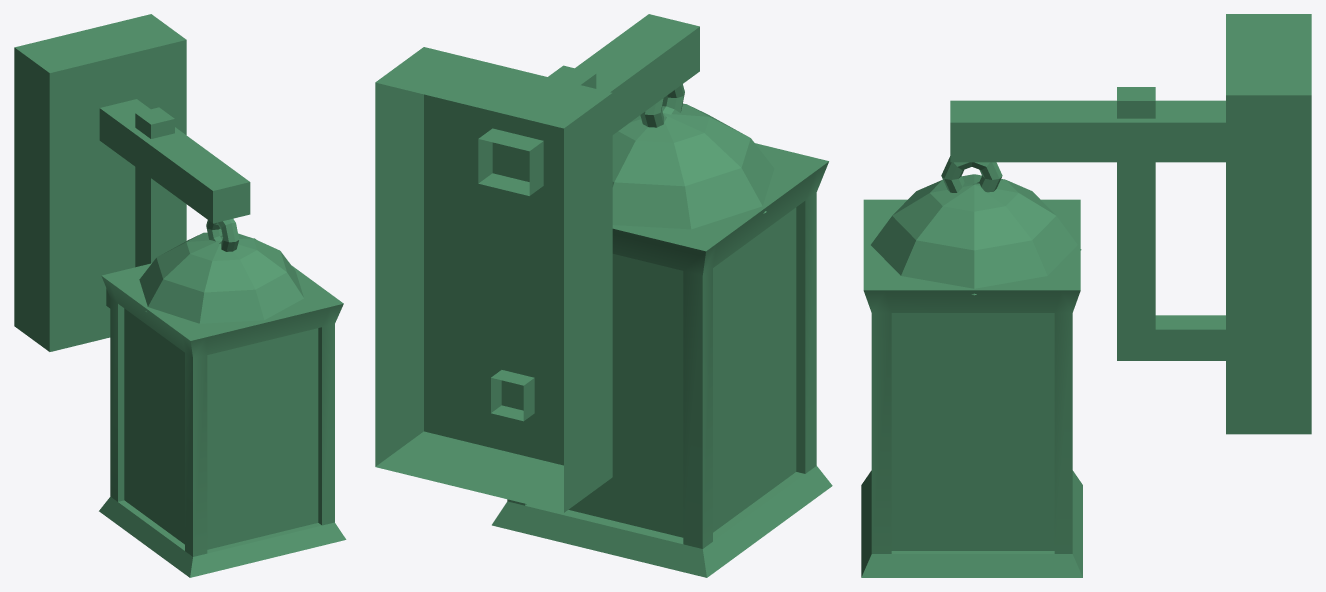
The model's file is Lantern_V2.fbx.
3 renders of one model, left to right at view 1: azimuth 30°, elevation 25°; view 2: azimuth 150°, elevation 25°; view 3: azimuth 270°, elevation 25°, orthographic. The views are drawn at different scales.
Parts seen in each view (by area): view 1: Lantern; view 2: Lantern; view 3: Lantern.
Boxes of the visible parts, x1=… form: Lantern: x1=14, y1=14, x2=346, y2=577; Lantern: x1=375, y1=14, x2=832, y2=577; Lantern: x1=861, y1=14, x2=1311, y2=577.
Bounding box in the file's own units: 37.1 × 88.95 × 76.13.
